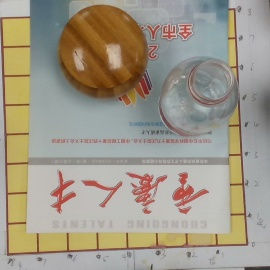bottle: (155, 56, 238, 137)
chess: (57, 5, 148, 100)
